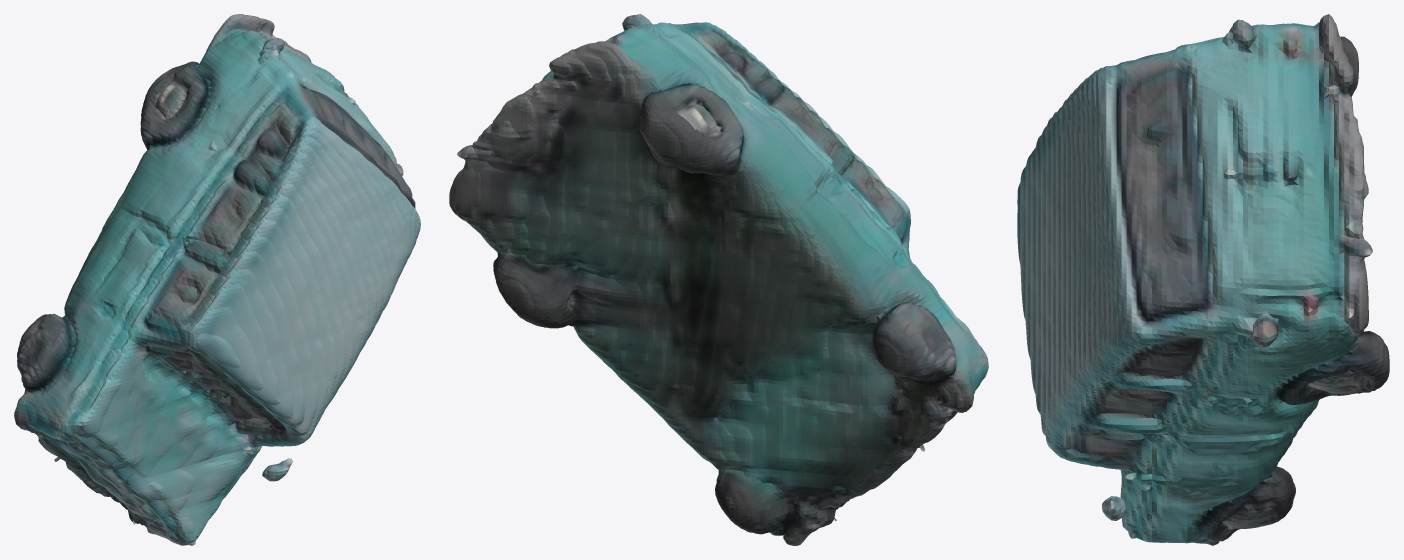
3 views of the same model, side by side, from view 1: azimuth 30°, elevation 25°; view 2: azimuth 150°, elevation 25°; view 3: azimuth 270°, elevation 25° (orthographic). The views are drawn at different scales.
Visible parts, largest first — view 1: world; view 2: world; view 3: world.
Part boxes in pixels (left/top/right/bottom): world: left=14, top=14, right=420, bottom=545; world: left=449, top=14, right=988, bottom=545; world: left=1017, top=14, right=1389, bottom=545.
Size of the model in its own units: 0.8657 by 0.9058 by 0.5022.
